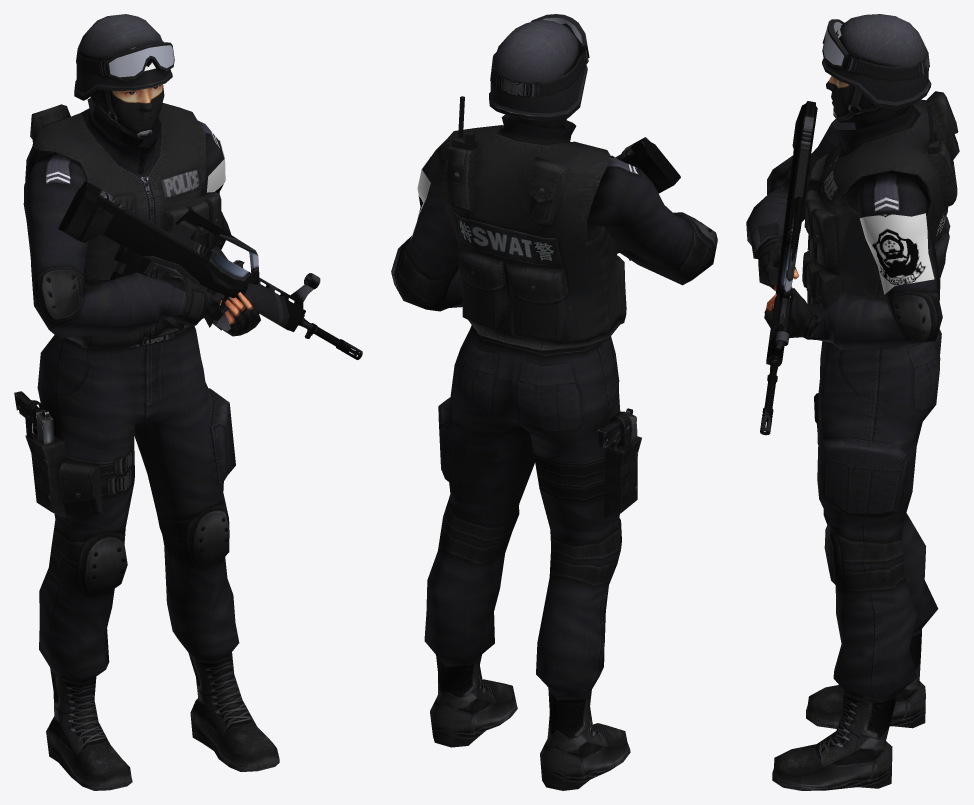
The model's file is tejing.glb.
The picture shows the model from 3 angles, left to right: view 1: azimuth 30°, elevation 25°; view 2: azimuth 150°, elevation 25°; view 3: azimuth 270°, elevation 25°; orthographic projection. The views are drawn at different scales.
Parts seen in each view (by area): view 1: Police01_m01, qiang; view 2: Police01_m01, qiang; view 3: Police01_m01, qiang.
Part boxes in pixels (<box>): Police01_m01: <box>14,14,279,790</box>; qiang: <box>58,181,362,359</box>; Police01_m01: <box>391,14,717,790</box>; qiang: <box>615,137,680,260</box>; Police01_m01: <box>746,14,959,790</box>; qiang: <box>760,101,817,435</box>.
Bounding box in the file's own units: 0.8027 × 1.82 × 0.4878.
7 materials, 6 textured.
